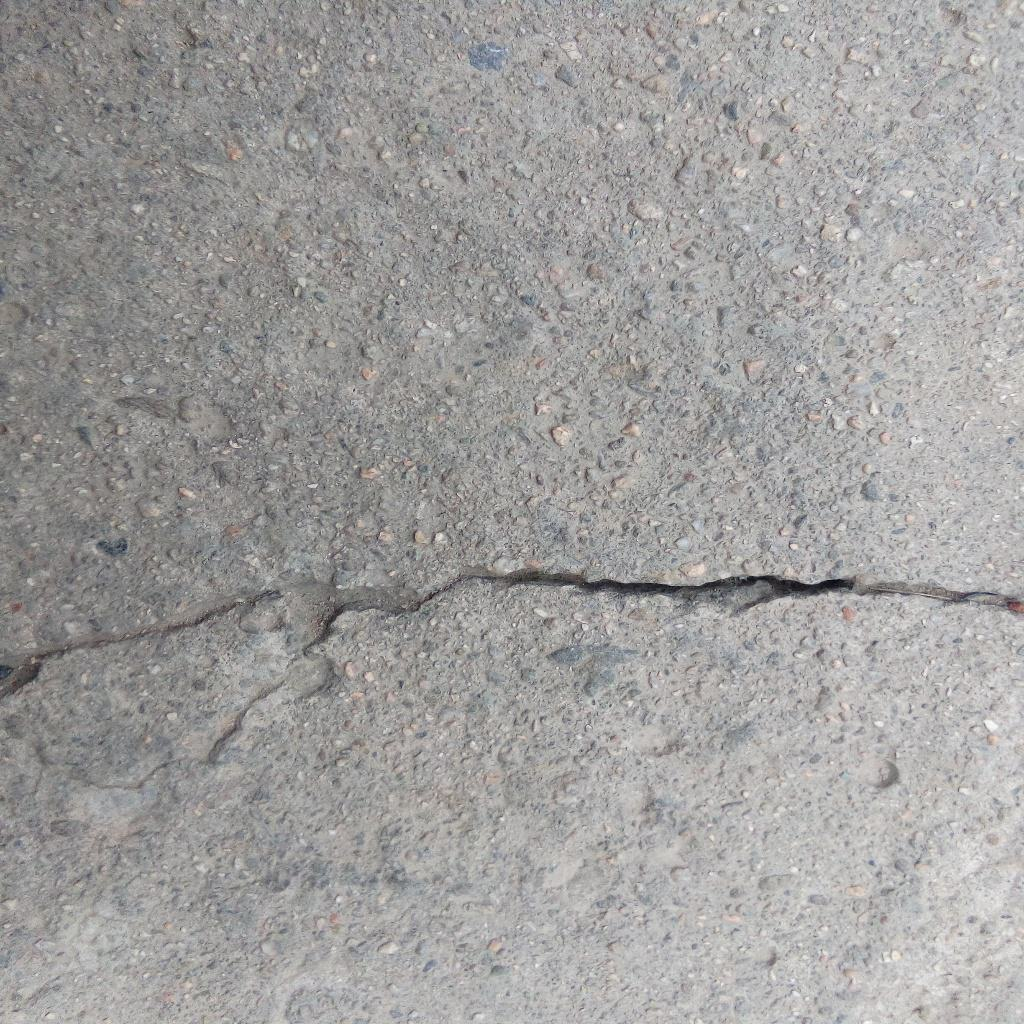Crack: (1, 566, 1024, 690)
